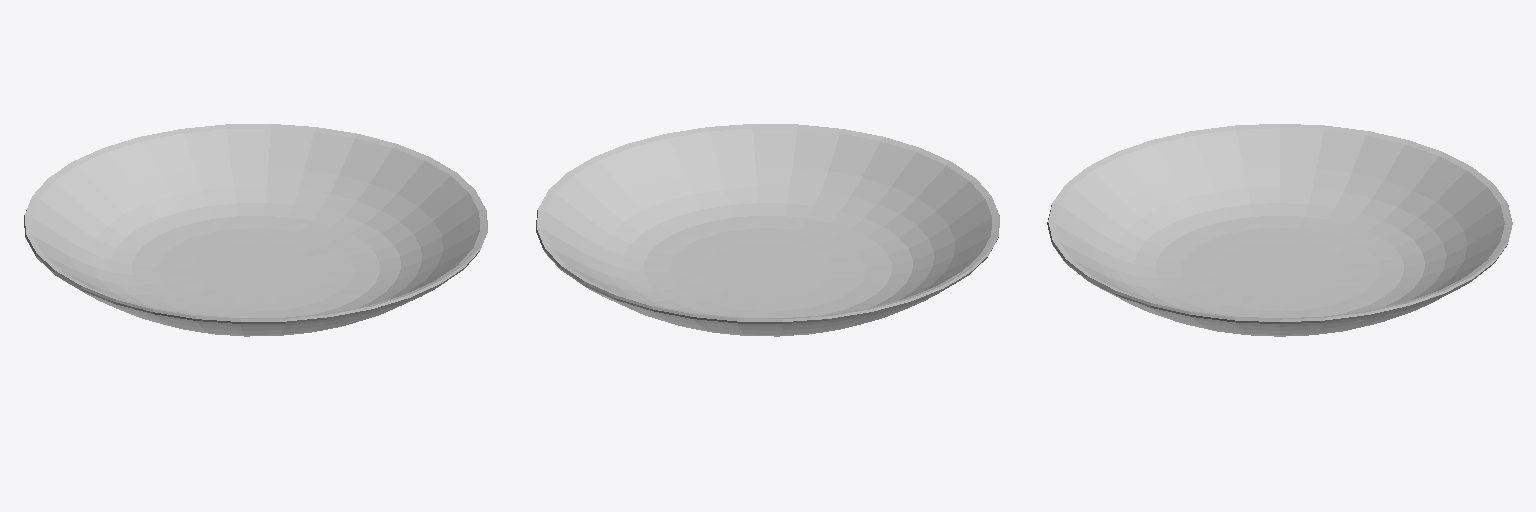
File: saucer.obj
The picture shows the model from 3 angles: view 1: azimuth 30°, elevation 25°; view 2: azimuth 150°, elevation 25°; view 3: azimuth 270°, elevation 25°; orthographic projection.
Parts seen in each view (by area): view 1: saucer_saucer_default; view 2: saucer_saucer_default; view 3: saucer_saucer_default.
Part boxes in pixels (x1,y1,x2,y2): saucer_saucer_default: (24, 124, 487, 336); saucer_saucer_default: (536, 124, 999, 336); saucer_saucer_default: (1047, 124, 1512, 336).
Size of the model in its own units: 4.42 by 0.7208 by 4.42.